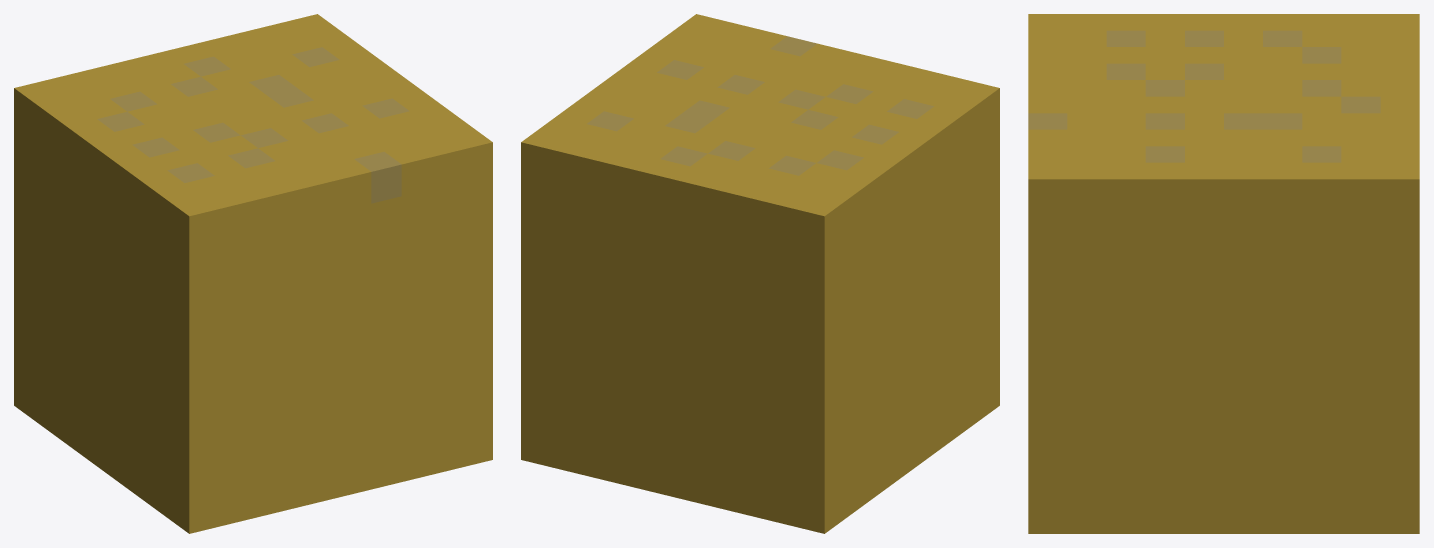
The model's file is SandTile.vox.obj.
The picture shows the model from 3 angles, left to right: view 1: azimuth 30°, elevation 25°; view 2: azimuth 150°, elevation 25°; view 3: azimuth 270°, elevation 25°; orthographic projection. The views are drawn at different scales.
Bounding box in the file's own units: 1 × 1 × 1.
1 material, 1 textured.
